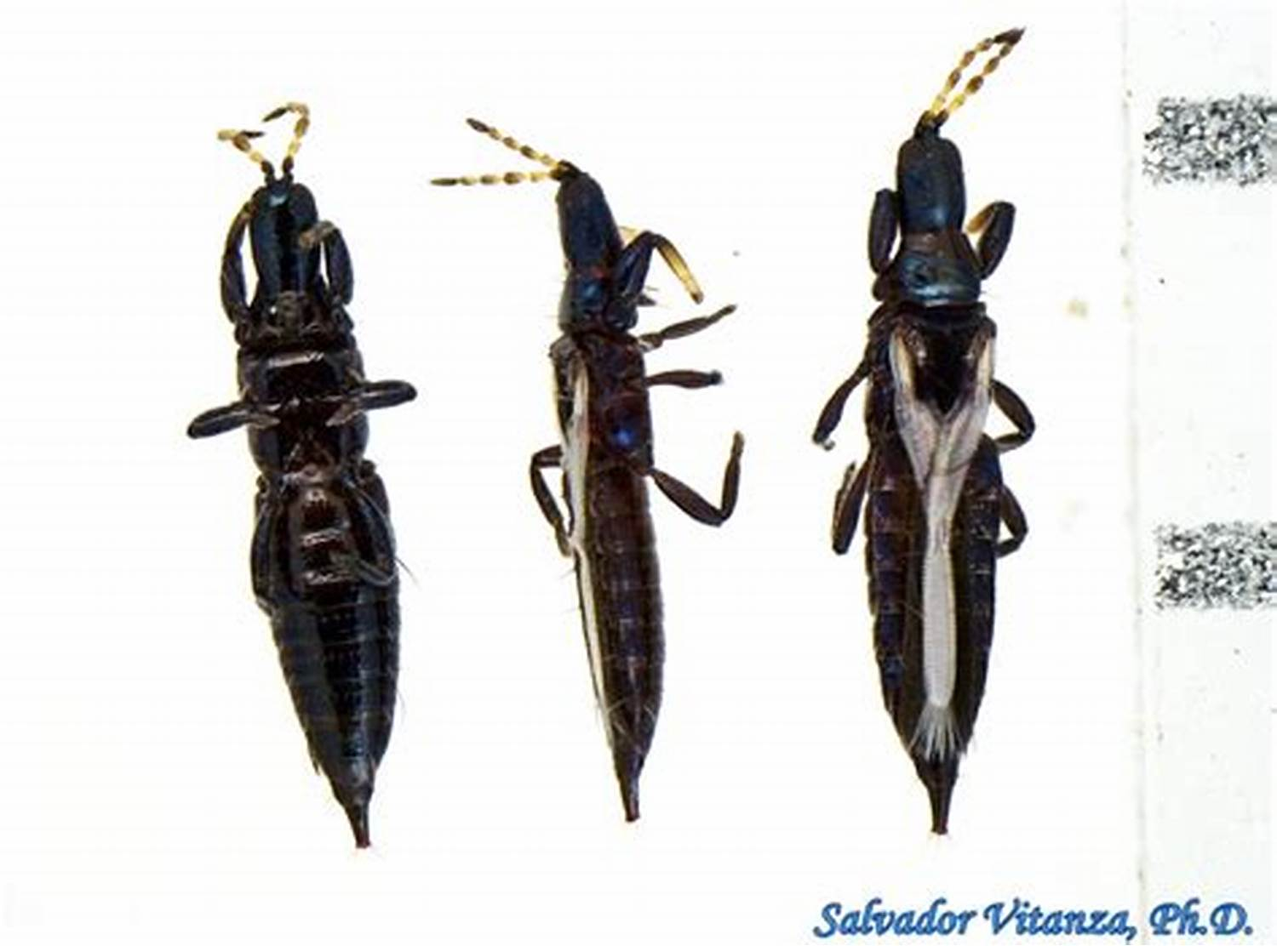Phlaeothripidae: (428, 113, 744, 834), (810, 15, 1040, 847), (180, 99, 420, 855)
